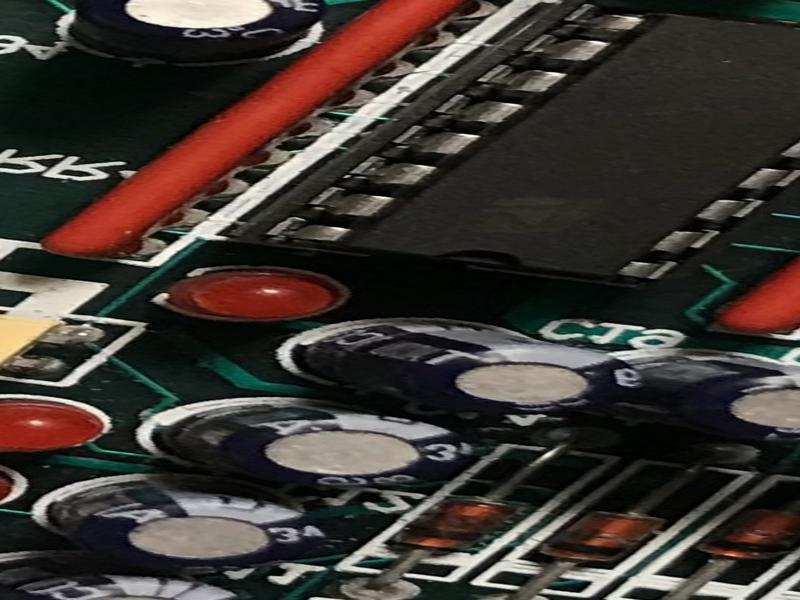Capacitor: (296, 319, 647, 426), (156, 398, 477, 501), (49, 475, 329, 580), (607, 342, 800, 454), (58, 1, 339, 73)
Diode: (382, 484, 524, 567), (532, 500, 672, 578), (685, 494, 800, 583)
LED: (167, 267, 341, 326), (1, 395, 107, 461)
